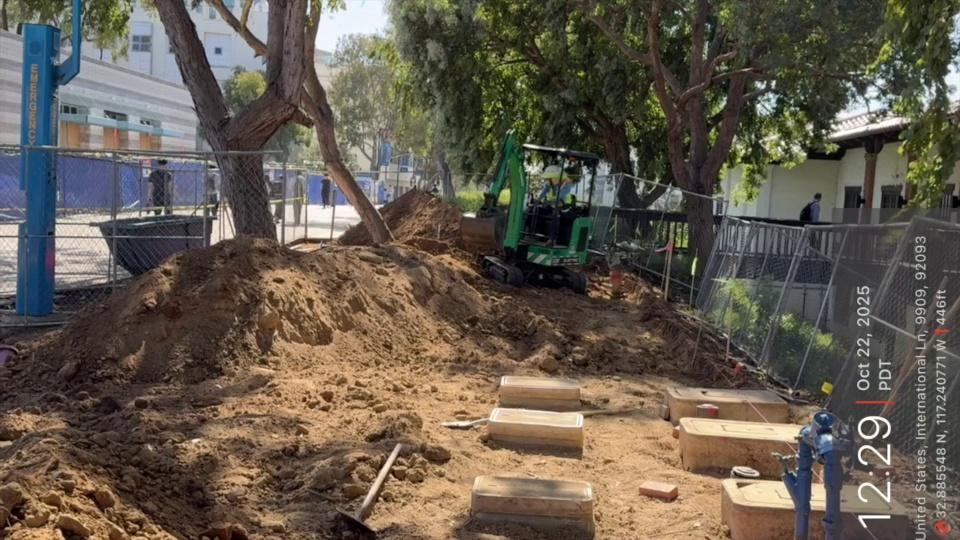Exacavator: (457, 127, 609, 294)
